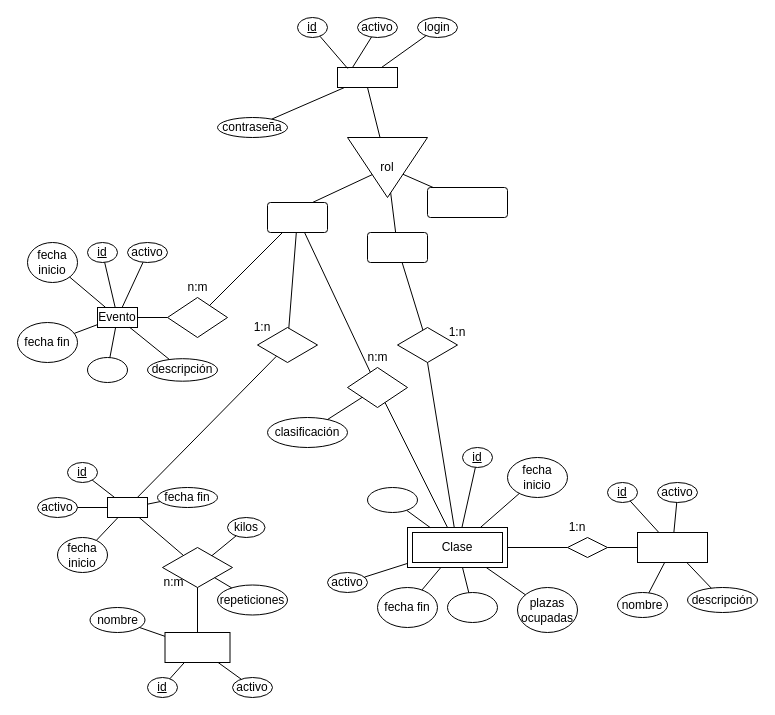
Image size: 775x715. Some labels were removed from this diagram. The box of each missing label's shape, as (x1, y1, x2, y2) in pixels:
acuden: (346, 366, 408, 408)
Administrador: (426, 186, 508, 218)
Alumno: (266, 202, 328, 232)
asiste: (166, 296, 228, 338)
contiene: (162, 546, 232, 588)
Ejercicio: (164, 632, 230, 662)
es: (566, 536, 608, 558)
hace: (256, 326, 318, 362)
imparte: (396, 326, 458, 362)
Monitor: (366, 232, 428, 262)
plazas: (446, 592, 498, 622)
Rutina: (106, 496, 148, 518)
sala: (366, 486, 418, 512)
Tipo Clase: (636, 532, 708, 562)
titular: (86, 356, 128, 382)
Usuario: (336, 66, 398, 88)
